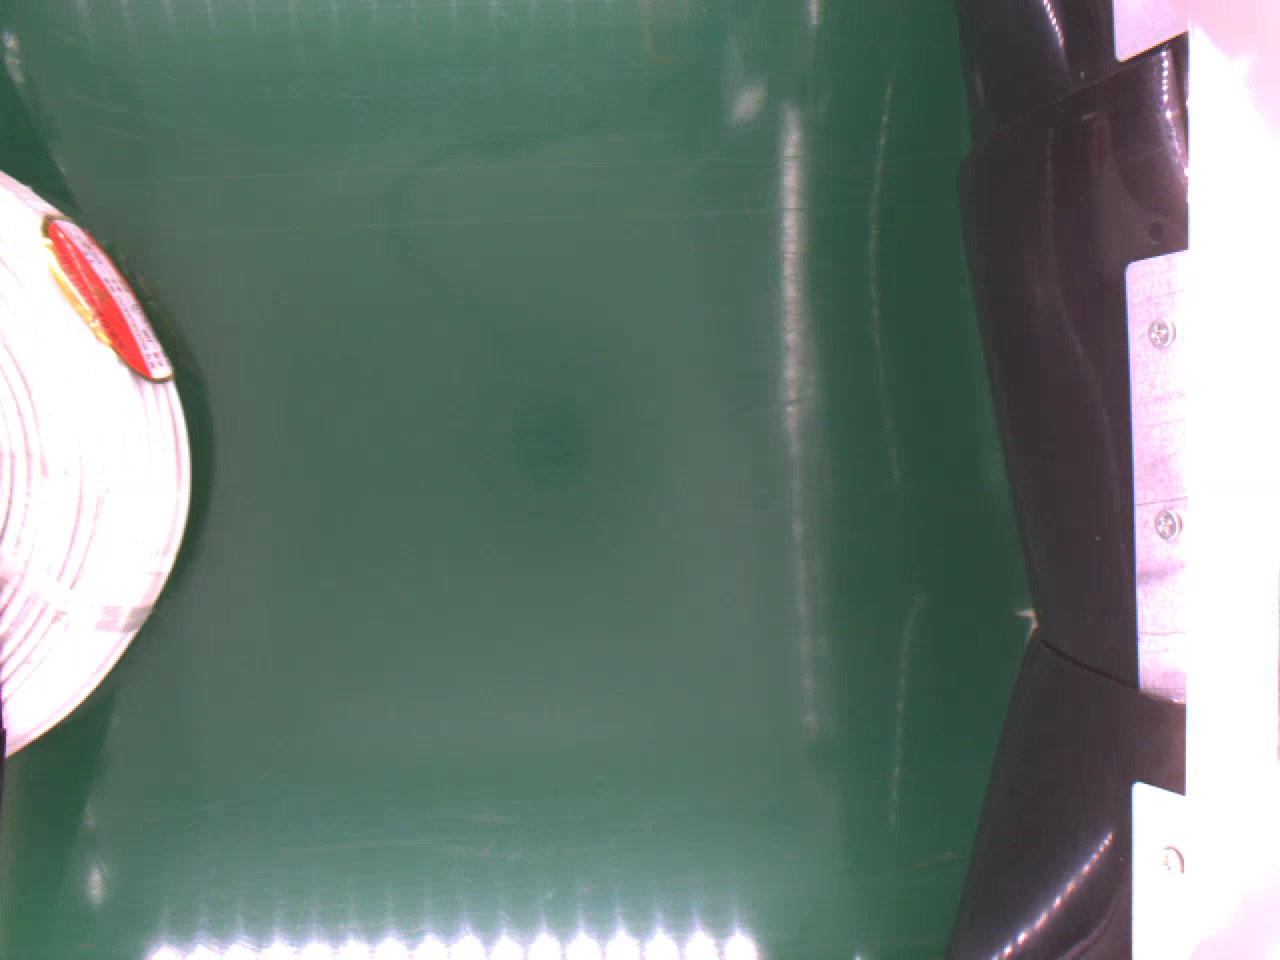white: (0, 169, 201, 763)
